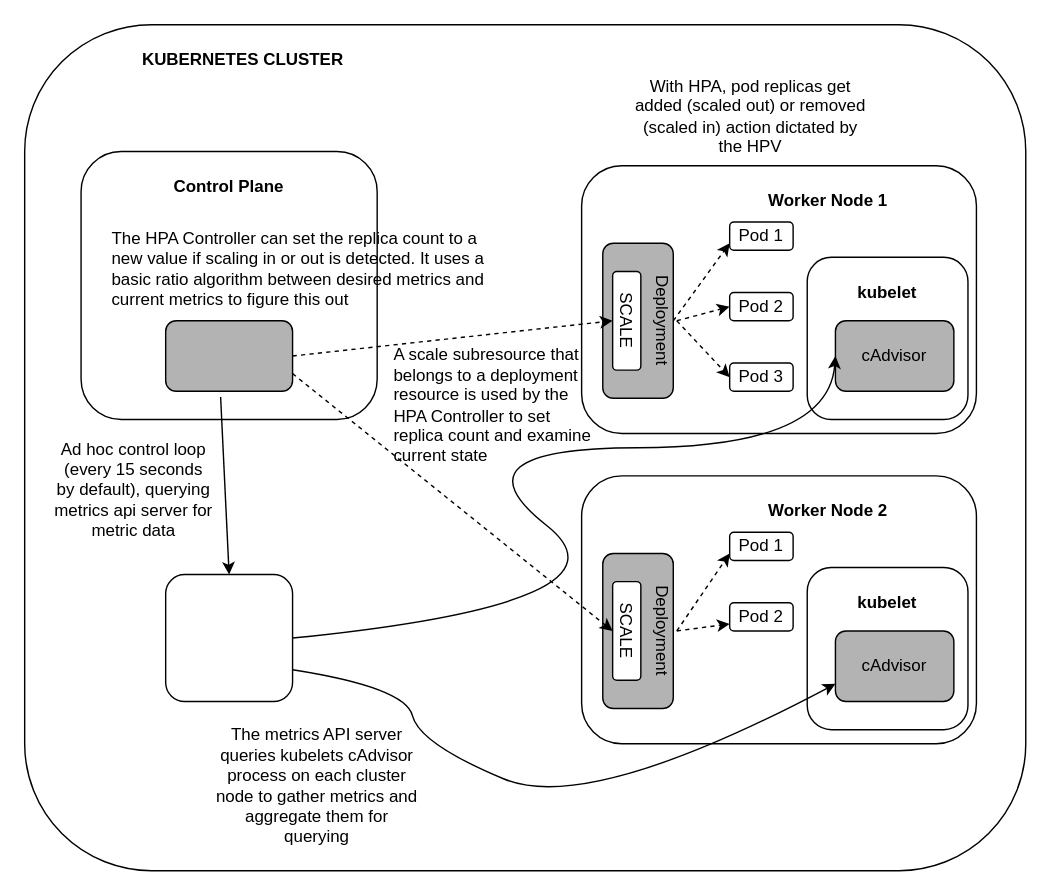
This 1050x895 diagram has some shape labels left out. The box of each missing label's shape, as (x1, y1, x2, y2) in pixels:
HPA Controller: (164, 319, 293, 391)
Metrics API Server: (164, 573, 293, 701)
